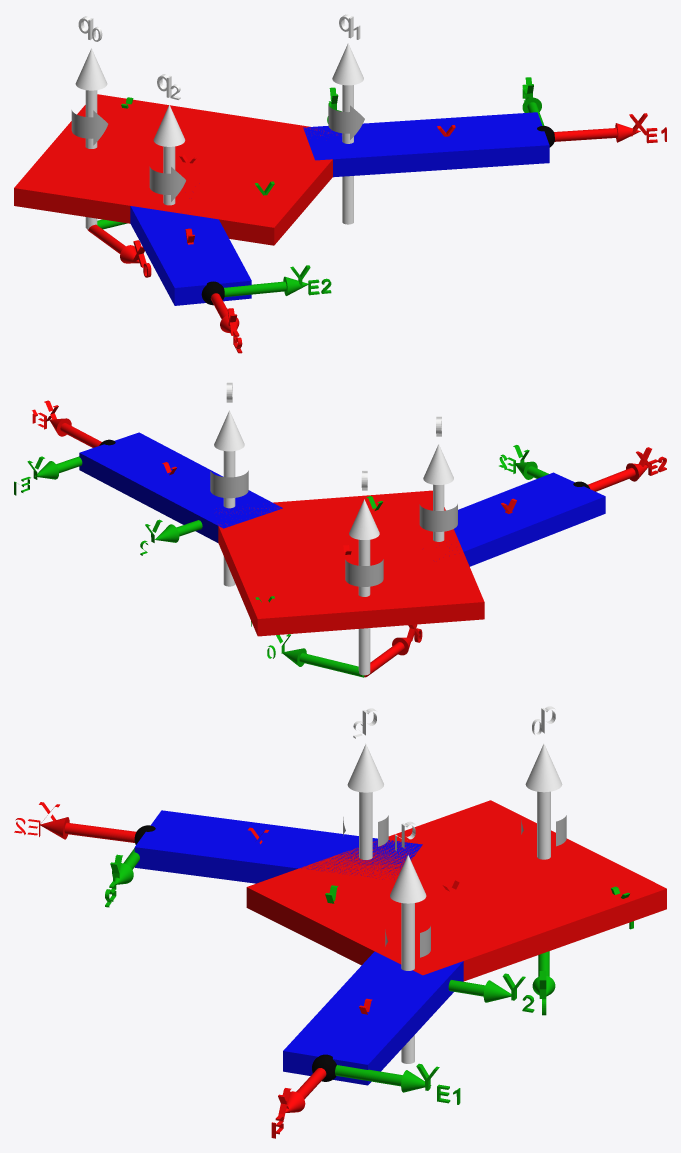
The model's file is fig7_13a.gltf.
3 views of the same model, one above another, from view 1: azimuth 30°, elevation 25°; view 2: azimuth 150°, elevation 25°; view 3: azimuth 270°, elevation 25° (orthographic). The views are drawn at different scales.
Visible parts, largest first — view 1: Renderer Node; view 2: Renderer Node; view 3: Renderer Node.
Part boxes in pixels (x1,y1,x2,y2): Renderer Node: (14, 14, 666, 353); Renderer Node: (14, 382, 666, 677); Renderer Node: (14, 706, 666, 1138).
Size of the model in its own units: 3.27 by 1.22 by 2.86.
